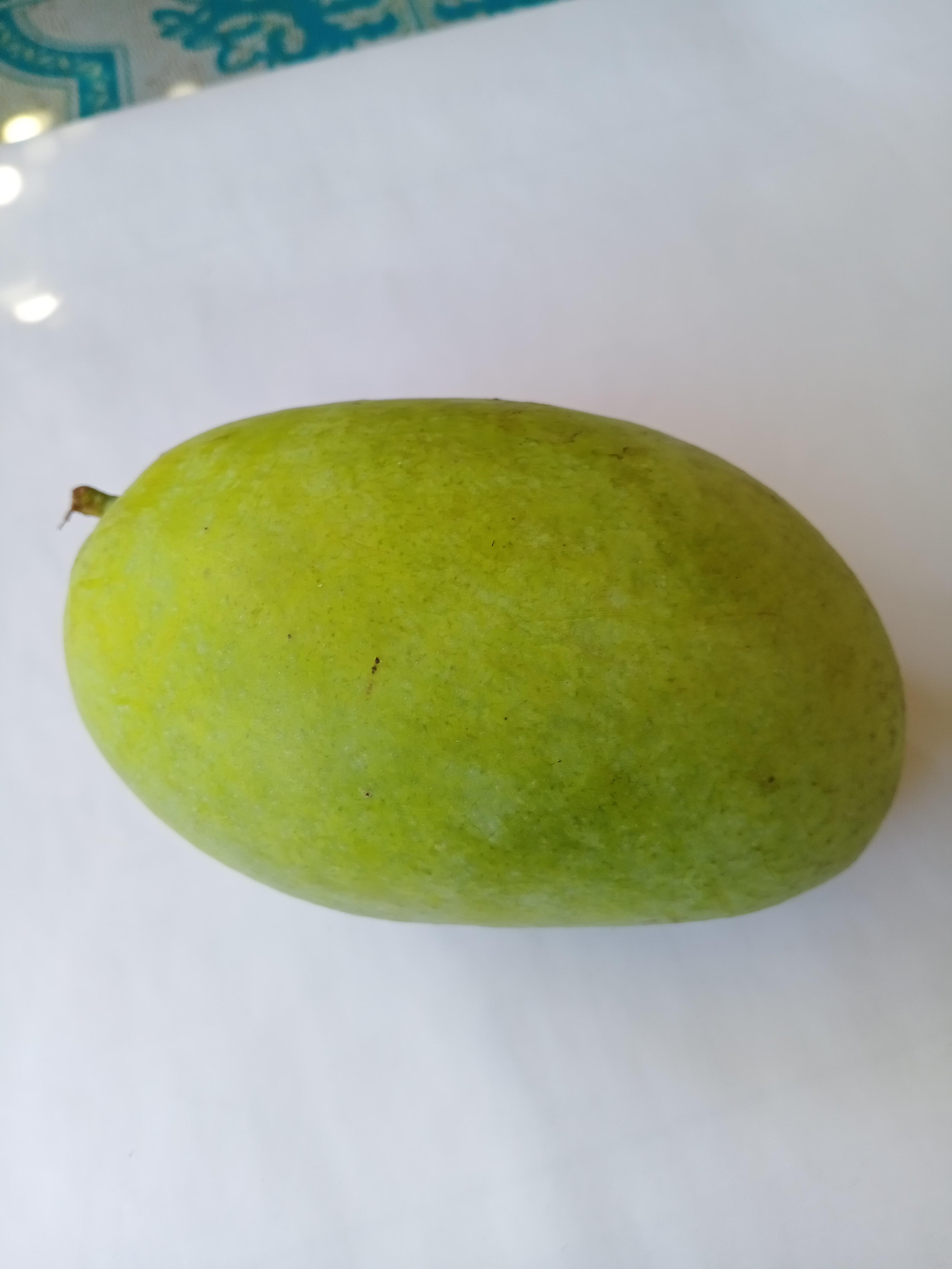Mango Unripe: (42, 369, 920, 939)
